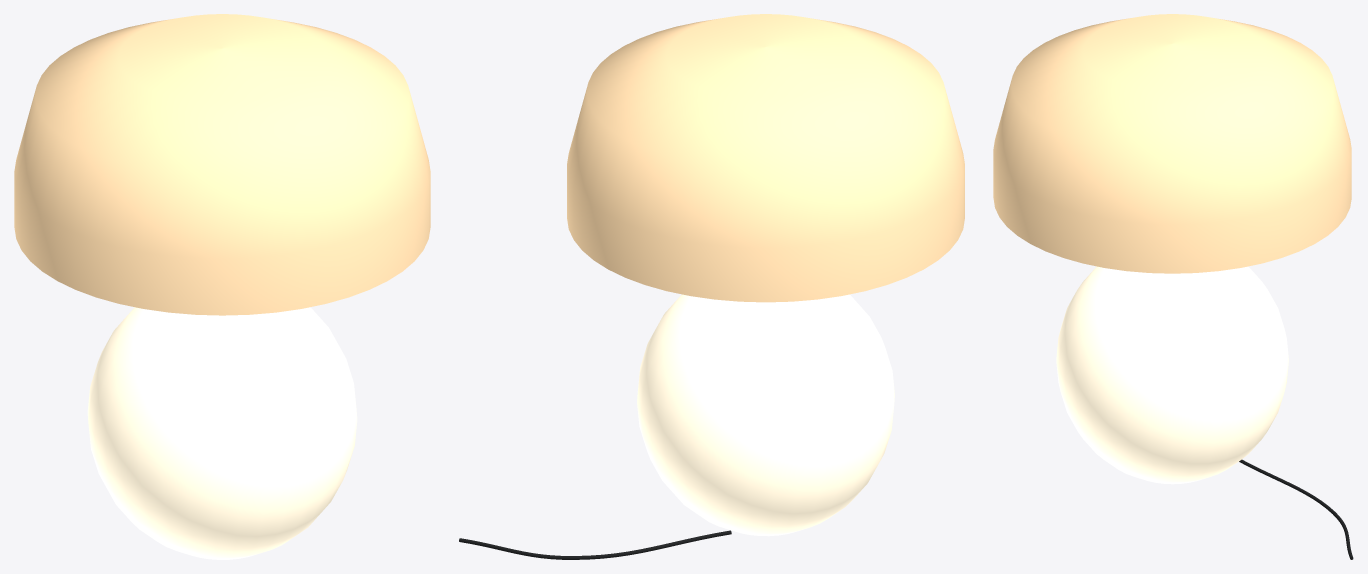
Rendered from ref01_10.glb.
The picture shows the model from 3 angles, left to right: view 1: azimuth 30°, elevation 25°; view 2: azimuth 150°, elevation 25°; view 3: azimuth 270°, elevation 25°; orthographic projection. The views are drawn at different scales.
Parts seen in each view (by area): view 1: ref01_10; view 2: ref01_10; view 3: ref01_10.
Part boxes in pixels (x1=…): ref01_10: x1=14, y1=14, x2=430, y2=559; ref01_10: x1=459, y1=14, x2=964, y2=559; ref01_10: x1=993, y1=14, x2=1353, y2=559.
Size of the model in its own units: 0.4403 by 0.53 by 0.402.
